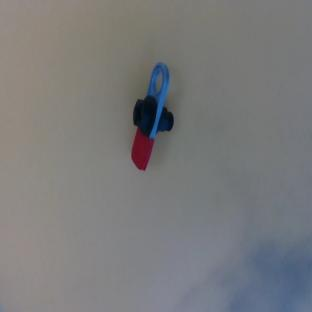part_1_good: (113, 59, 193, 174)
